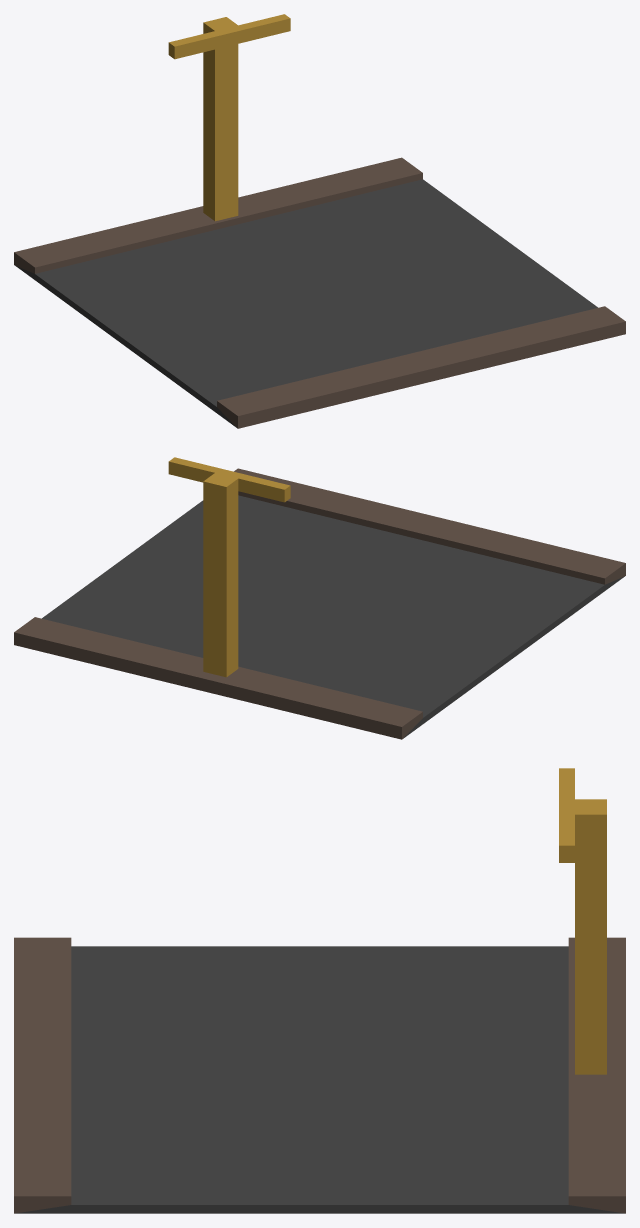
Rendered from top_bottom_power_left_right.glb.
3 renders of one model, top to bottom at view 1: azimuth 30°, elevation 25°; view 2: azimuth 150°, elevation 25°; view 3: azimuth 270°, elevation 25°, orthographic. The views are drawn at different scales.
Visible parts, largest first — view 1: Maxis-3d1-mesh-128; view 2: Maxis-3d1-mesh-128; view 3: Maxis-3d1-mesh-128.
Boxes of the visible parts, x1=… form: Maxis-3d1-mesh-128: x1=14, y1=14, x2=625, y2=428; Maxis-3d1-mesh-128: x1=14, y1=457, x2=625, y2=739; Maxis-3d1-mesh-128: x1=14, y1=768, x2=625, y2=1213.
Size of the model in its own units: 16 by 8 by 16.
